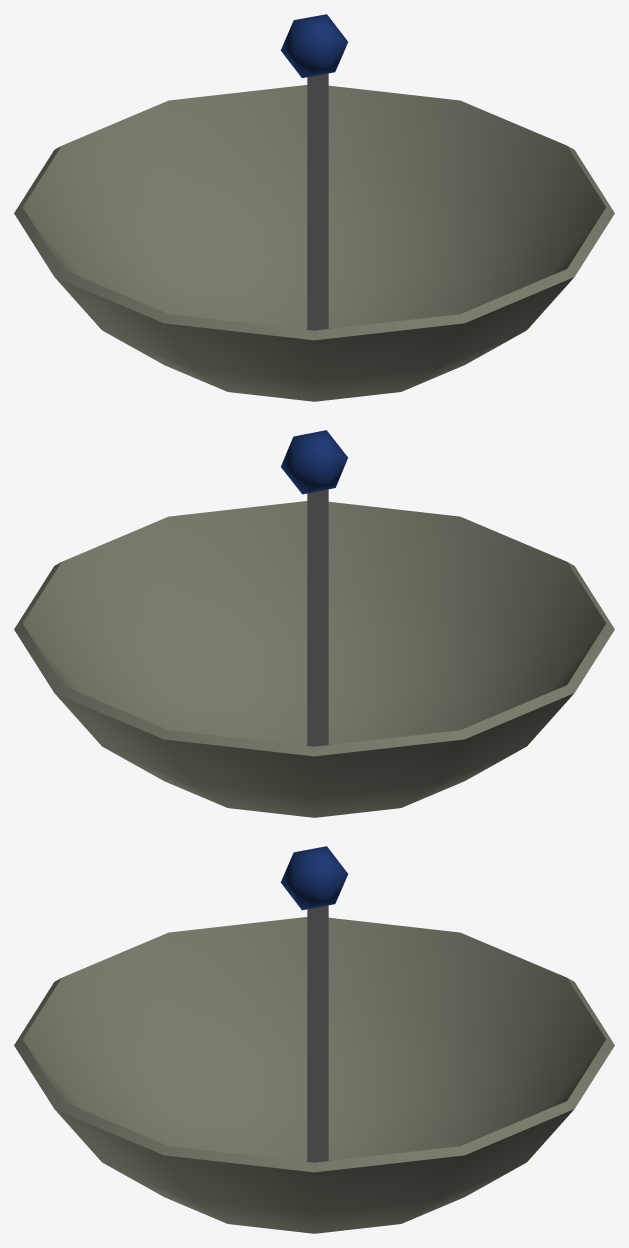
File: LPSciFi_satelliteDish.fbx
3 renders of one model, top to bottom at view 1: azimuth 30°, elevation 25°; view 2: azimuth 150°, elevation 25°; view 3: azimuth 270°, elevation 25°, orthographic.
Parts seen in each view (by area): view 1: satelliteDish; view 2: satelliteDish; view 3: satelliteDish.
Part boxes in pixels (bbox=[...]): satelliteDish: bbox=[14, 14, 614, 401]; satelliteDish: bbox=[14, 430, 614, 817]; satelliteDish: bbox=[14, 846, 614, 1233].
Bounding box in the file's own units: 361 × 232 × 361.
